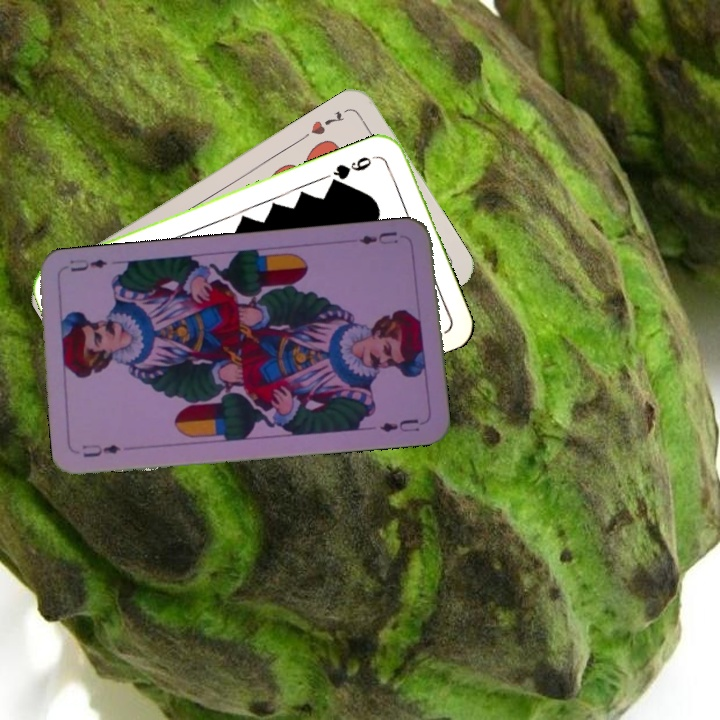EU: (355, 227, 401, 247), (78, 440, 123, 460)
G9: (327, 151, 381, 186)
H7: (307, 106, 347, 138)
